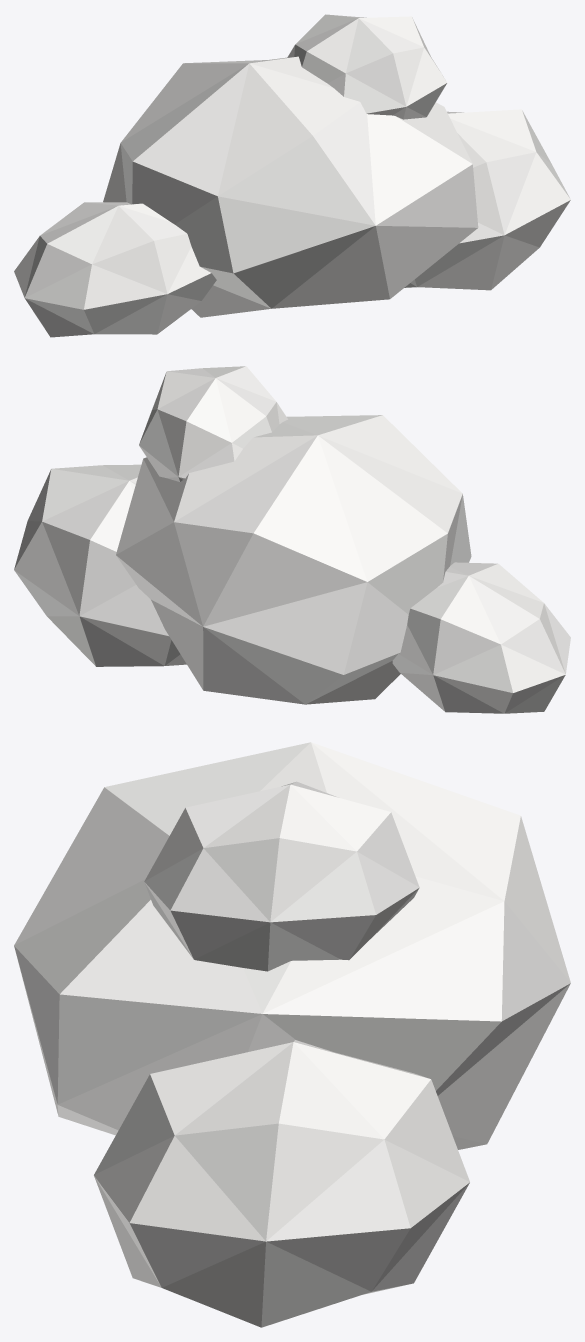
The model's file is Isl_10_Cloud_1.fbx.
3 renders of one model, top to bottom at view 1: azimuth 30°, elevation 25°; view 2: azimuth 150°, elevation 25°; view 3: azimuth 270°, elevation 25°, orthographic. The views are drawn at different scales.
Parts seen in each view (by area): view 1: Isl_10_Cloud_1; view 2: Isl_10_Cloud_1; view 3: Isl_10_Cloud_1.
Part boxes in pixels (x1,y1,x2,y2): Isl_10_Cloud_1: (14,14,570,337); Isl_10_Cloud_1: (14,366,570,713); Isl_10_Cloud_1: (14,742,570,1327).
Size of the model in its own units: 1023 by 576 by 532.
1 material, 1 textured.
